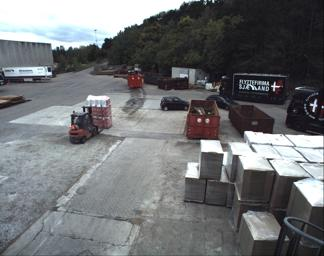rockwool_batts: (86, 93, 112, 128)
